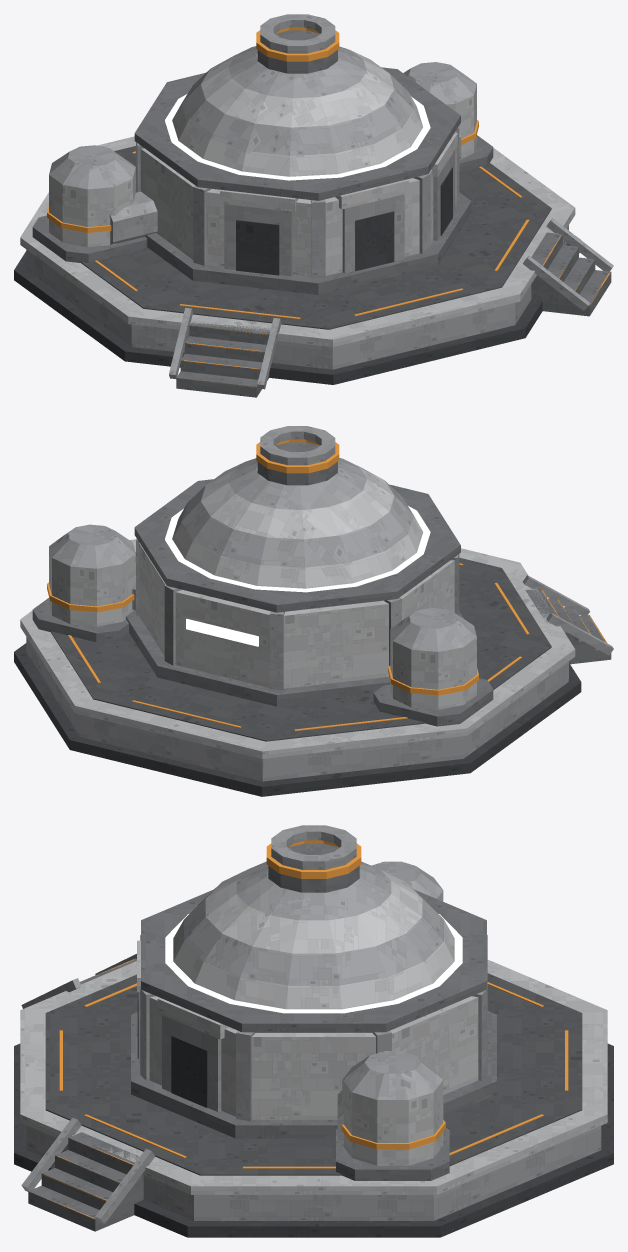
The model's file is habitat_ii_lod2.glb.
3 renders of one model, top to bottom at view 1: azimuth 30°, elevation 25°; view 2: azimuth 150°, elevation 25°; view 3: azimuth 270°, elevation 25°, orthographic. The views are drawn at different scales.
Visible parts, largest first — view 1: habitat_ii_base_body.002, habitat_ii_base_trim.002, habitat_ii_base_glow.002; view 2: habitat_ii_base_body.002, habitat_ii_base_trim.002, habitat_ii_base_glow.002; view 3: habitat_ii_base_body.002, habitat_ii_base_trim.002, habitat_ii_base_glow.002.
Part boxes in pixels (x1,y1,x2,y2): habitat_ii_base_body.002: (14, 14, 613, 397); habitat_ii_base_trim.002: (47, 27, 610, 387); habitat_ii_base_glow.002: (165, 94, 430, 180); habitat_ii_base_body.002: (14, 426, 613, 796); habitat_ii_base_trim.002: (47, 439, 607, 731); habitat_ii_base_glow.002: (165, 506, 430, 646); habitat_ii_base_body.002: (14, 825, 613, 1237); habitat_ii_base_trim.002: (36, 840, 568, 1218); habitat_ii_base_glow.002: (165, 914, 462, 1013).
Bounding box in the file's own units: 3.8 × 1.87 × 3.8.
Materials: 3 (1 with a texture image).
